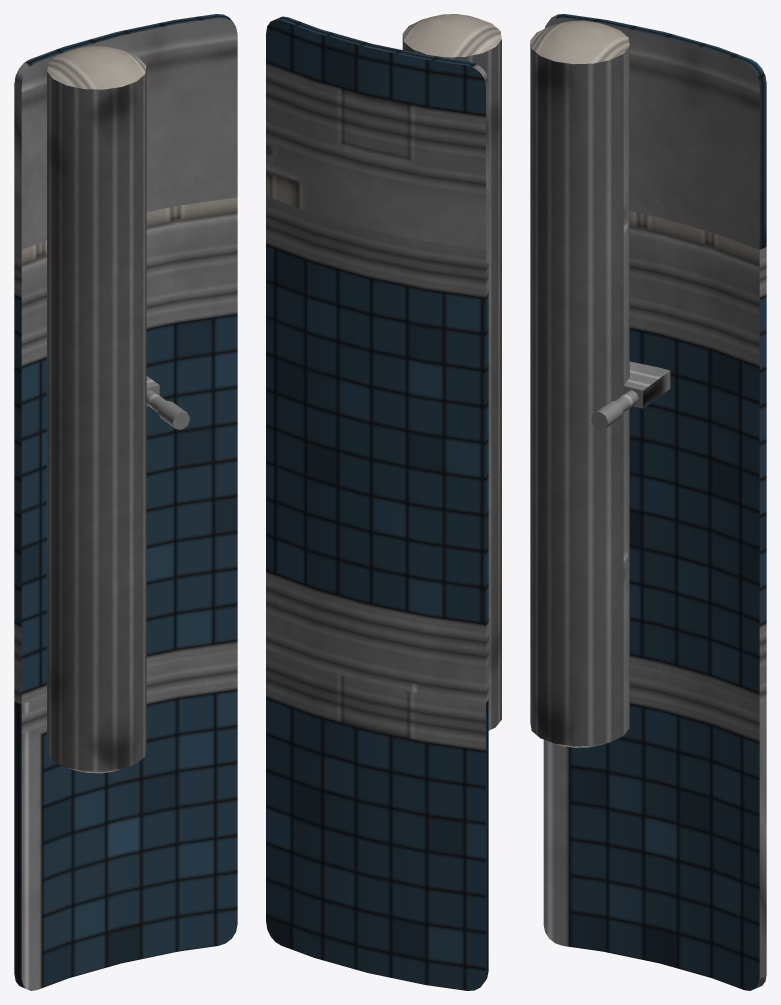
Rendered from single_long_rad_overhang.obj.
The picture shows the model from 3 angles, left to right: view 1: azimuth 30°, elevation 25°; view 2: azimuth 150°, elevation 25°; view 3: azimuth 330°, elevation 25°; orthographic projection.
Visible parts, largest first — view 1: 1; view 2: 1; view 3: 1.
Boxes of the visible parts, bbox=[...] form: 1: bbox=[14, 14, 237, 990]; 1: bbox=[266, 14, 501, 990]; 1: bbox=[530, 14, 766, 990].
Size of the model in its own units: 0.6341 by 2.59 by 0.325.
